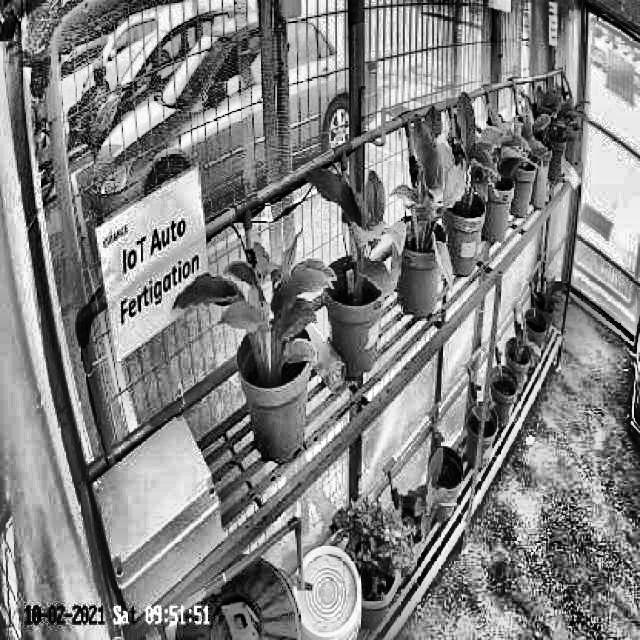plants: (173, 221, 339, 384), (305, 156, 403, 310), (391, 105, 458, 288), (434, 92, 498, 226)
